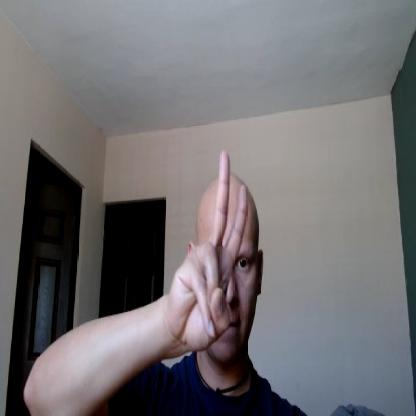V: (169, 143, 249, 353)
